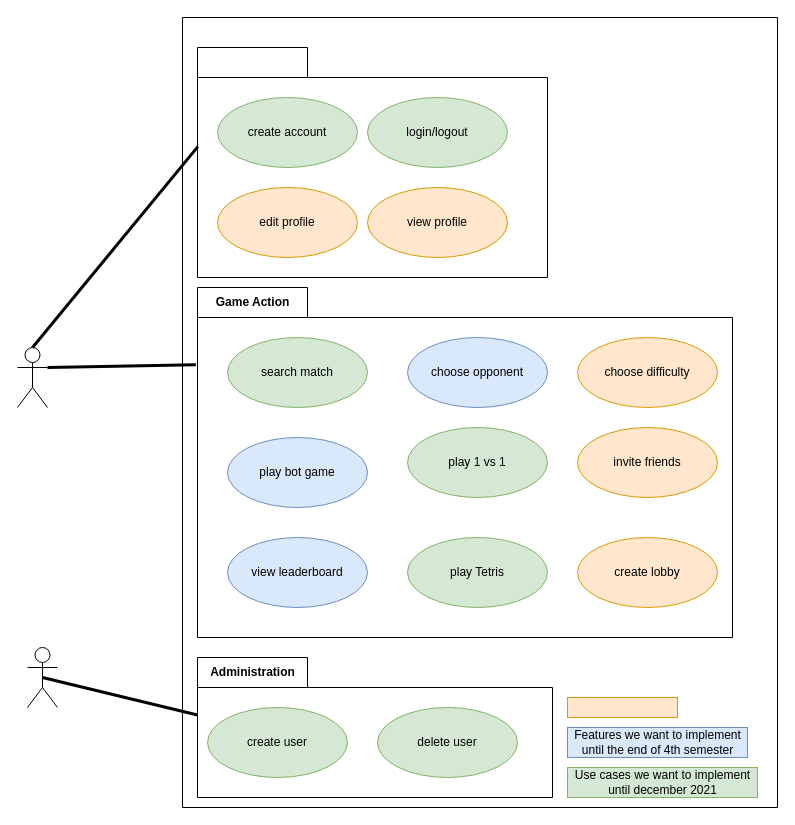
Some shapes in this 795 by 825 pixel diagram are drawn without their labels. Each missing label, with the box of its shape:
Accounting: (196, 46, 548, 278)
Admin: (26, 646, 58, 708)
Optional features: (566, 696, 678, 718)
User: (16, 346, 48, 408)
